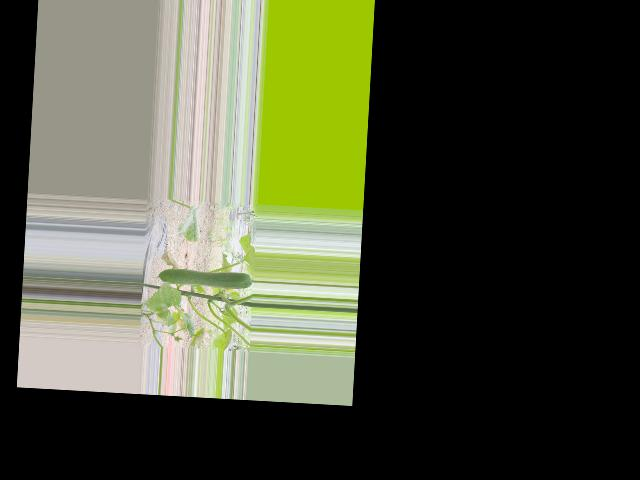cucumber: (155, 267, 252, 289)
